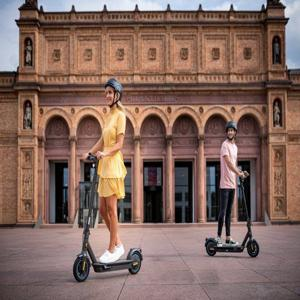human on a scooter: (72, 78, 144, 282), (204, 121, 260, 257)
